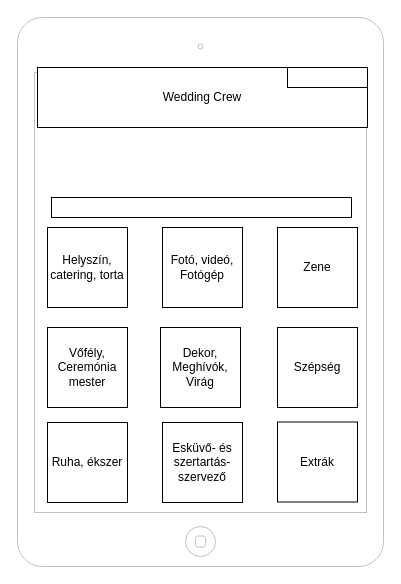
Some shapes in this 401 by 584 pixel diagram are drawn without their labels. Here are the shapes that lost their labels. From the top down, the centre of each, then its label:
At (327,77): "Szűrők".
At (201,207): "Keresés".
